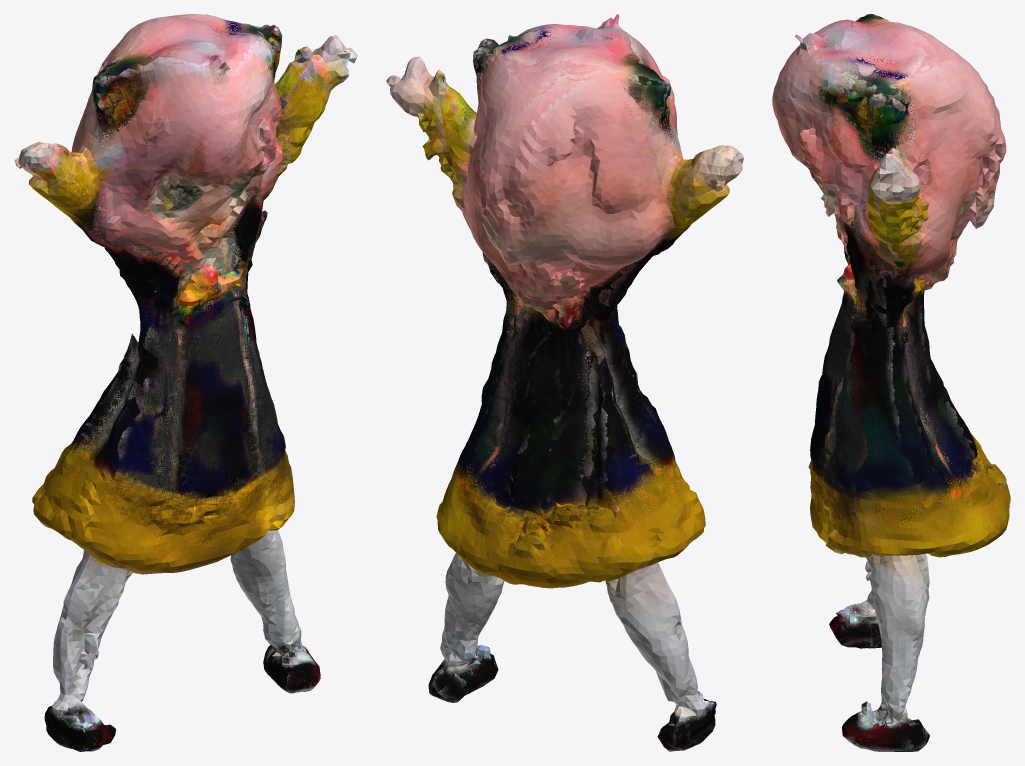
File: anya_001.glb
3 renders of one model, left to right at view 1: azimuth 30°, elevation 25°; view 2: azimuth 150°, elevation 25°; view 3: azimuth 270°, elevation 25°, orthographic. The views are drawn at different scales.
Bounding box in the file's own units: 0.7656 × 1.44 × 0.4694.
Materials: 1 (1 with a texture image).
